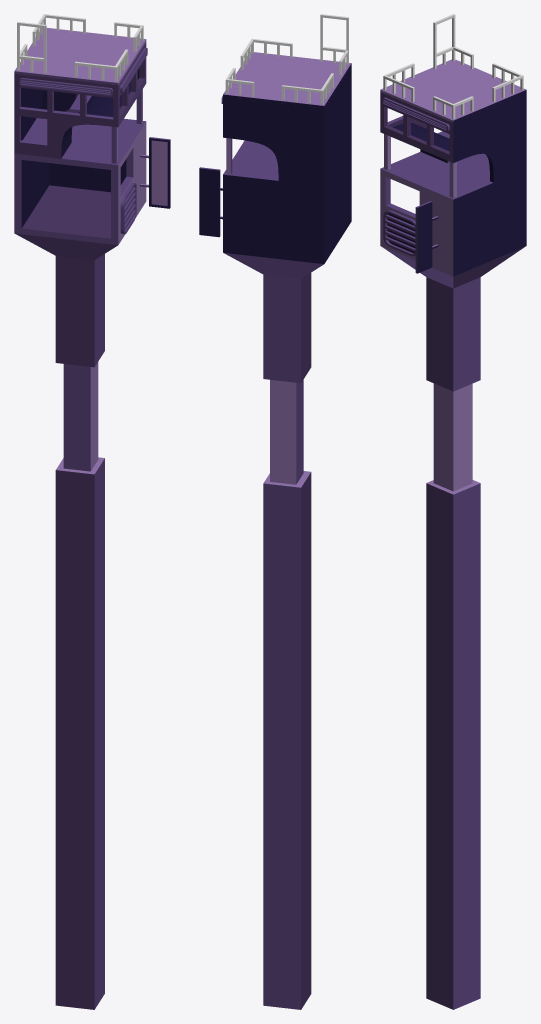
The model's file is 3dVisualisation new.glb.
The picture shows the model from 3 angles, left to right: view 1: azimuth 30°, elevation 25°; view 2: azimuth 210°, elevation 25°; view 3: azimuth 270°, elevation 25°; orthographic projection. The views are drawn at different scales.
Visible parts, largest first — view 1: support, house, house upper, Cube.004, sign, Cube.002, vent top, vent, top part, Cube.001, Cube; view 2: support, house, house upper, Cube.004, sign, top part, Cube.002, Cube.001; view 3: support, house, house upper, Cube.004, sign, vent, top part, Cube.002, vent top.001, Cube, Cube.001, Cube.003.
Boxes of the visible parts, left/top/right/bottom form: support: left=15, top=233, right=117, bottom=1009; house: left=14, top=79, right=146, bottom=245; house upper: left=14, top=57, right=146, bottom=158; Cube.004: left=14, top=28, right=146, bottom=85; sign: left=140, top=137, right=170, bottom=208; Cube.002: left=17, top=22, right=117, bottom=81; vent top: left=19, top=78, right=113, bottom=96; vent: left=120, top=183, right=136, bottom=234; top part: left=14, top=42, right=146, bottom=95; Cube.001: left=43, top=14, right=140, bottom=39; Cube: left=115, top=25, right=143, bottom=76; support: left=223, top=252, right=323, bottom=1009; house: left=223, top=138, right=351, bottom=263; house upper: left=223, top=75, right=351, bottom=185; Cube.004: left=223, top=52, right=351, bottom=108; sign: left=199, top=167, right=222, bottom=237; top part: left=223, top=66, right=351, bottom=117; Cube.002: left=251, top=14, right=348, bottom=64; Cube.001: left=228, top=79, right=323, bottom=104; support: left=381, top=246, right=525, bottom=1009; house: left=380, top=134, right=526, bottom=276; house upper: left=380, top=101, right=526, bottom=182; Cube.004: left=380, top=59, right=526, bottom=122; sign: left=415, top=201, right=438, bottom=273; vent: left=383, top=210, right=415, bottom=256; top part: left=380, top=92, right=526, bottom=132; Cube.002: left=383, top=14, right=455, bottom=90; vent top.001: left=382, top=97, right=449, bottom=131; Cube: left=385, top=76, right=455, bottom=119; Cube.001: left=454, top=75, right=523, bottom=115; Cube.003: left=453, top=47, right=521, bottom=82.
Size of the model in its own units: 2.95 by 20.32 by 2.83.
3 materials, 3 textured.
